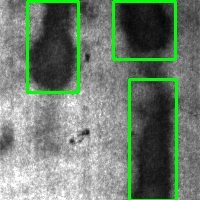patches: (129, 79, 176, 200), (27, 1, 78, 92), (113, 1, 175, 59)
